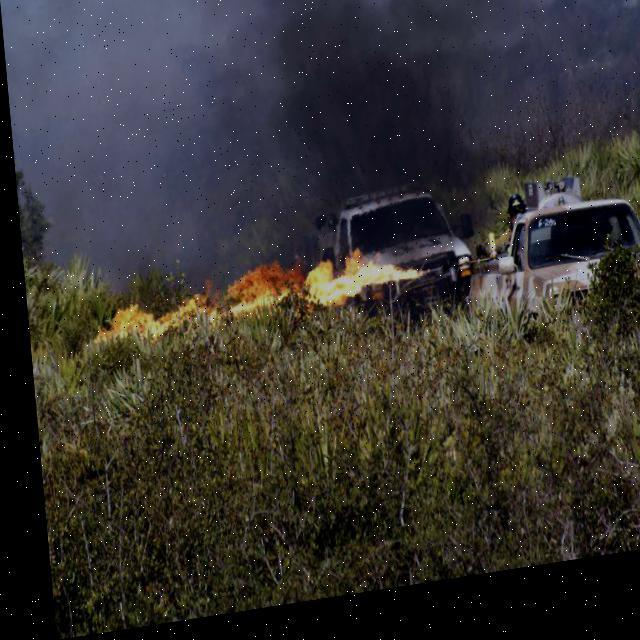Fire: (84, 254, 429, 362)
